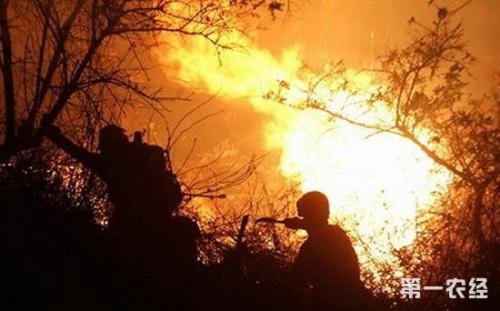fire: (313, 100, 461, 223), (25, 8, 168, 133), (320, 7, 498, 92), (188, 30, 315, 101), (191, 164, 298, 230)
